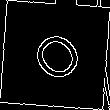O_SE: (22, 22, 88, 88)
